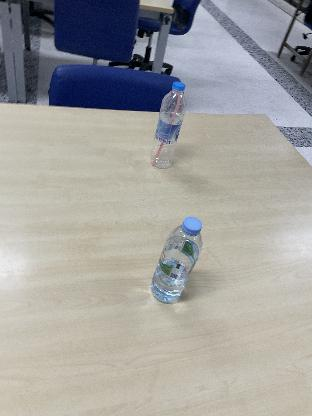Plastic Bottle: (150, 214, 204, 306), (154, 78, 189, 172)
